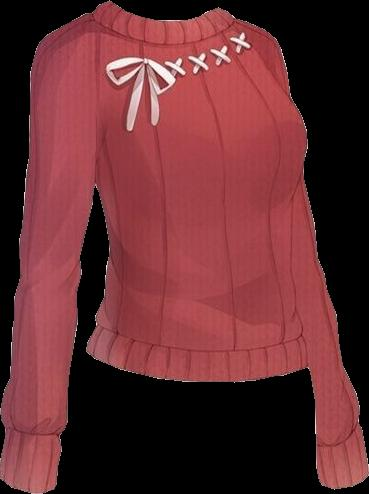Bodice: (86, 1, 310, 381)
Neckline: (93, 324, 303, 353), (107, 1, 223, 27)
Sleeve: (0, 12, 99, 492)
Sleeveline: (85, 12, 102, 186), (4, 424, 61, 438)
Waistline: (85, 346, 312, 384)
